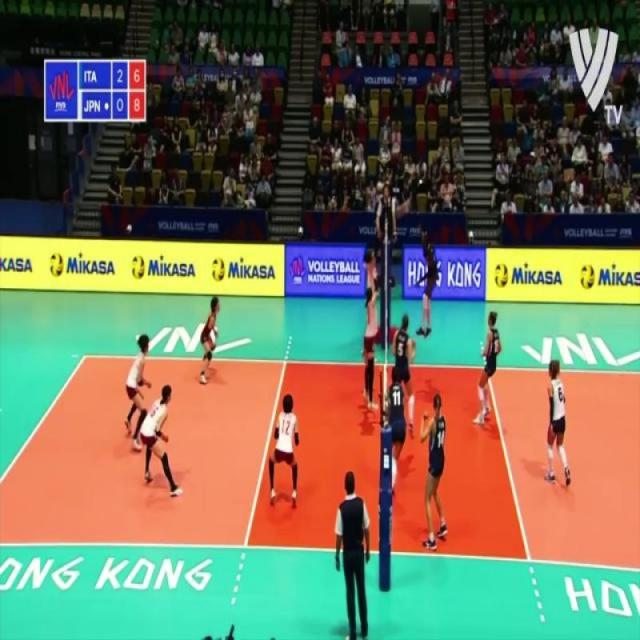volleyball: (493, 262, 510, 289), (580, 262, 596, 290), (50, 250, 64, 278), (131, 254, 146, 280), (211, 259, 226, 280)
